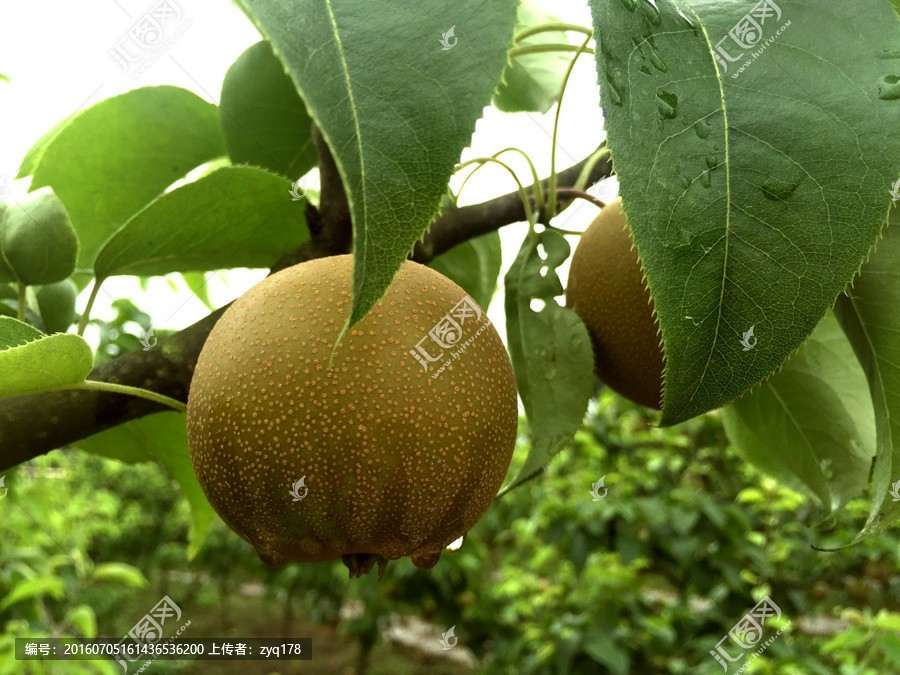pear: (185, 255, 517, 568), (567, 195, 732, 412)
